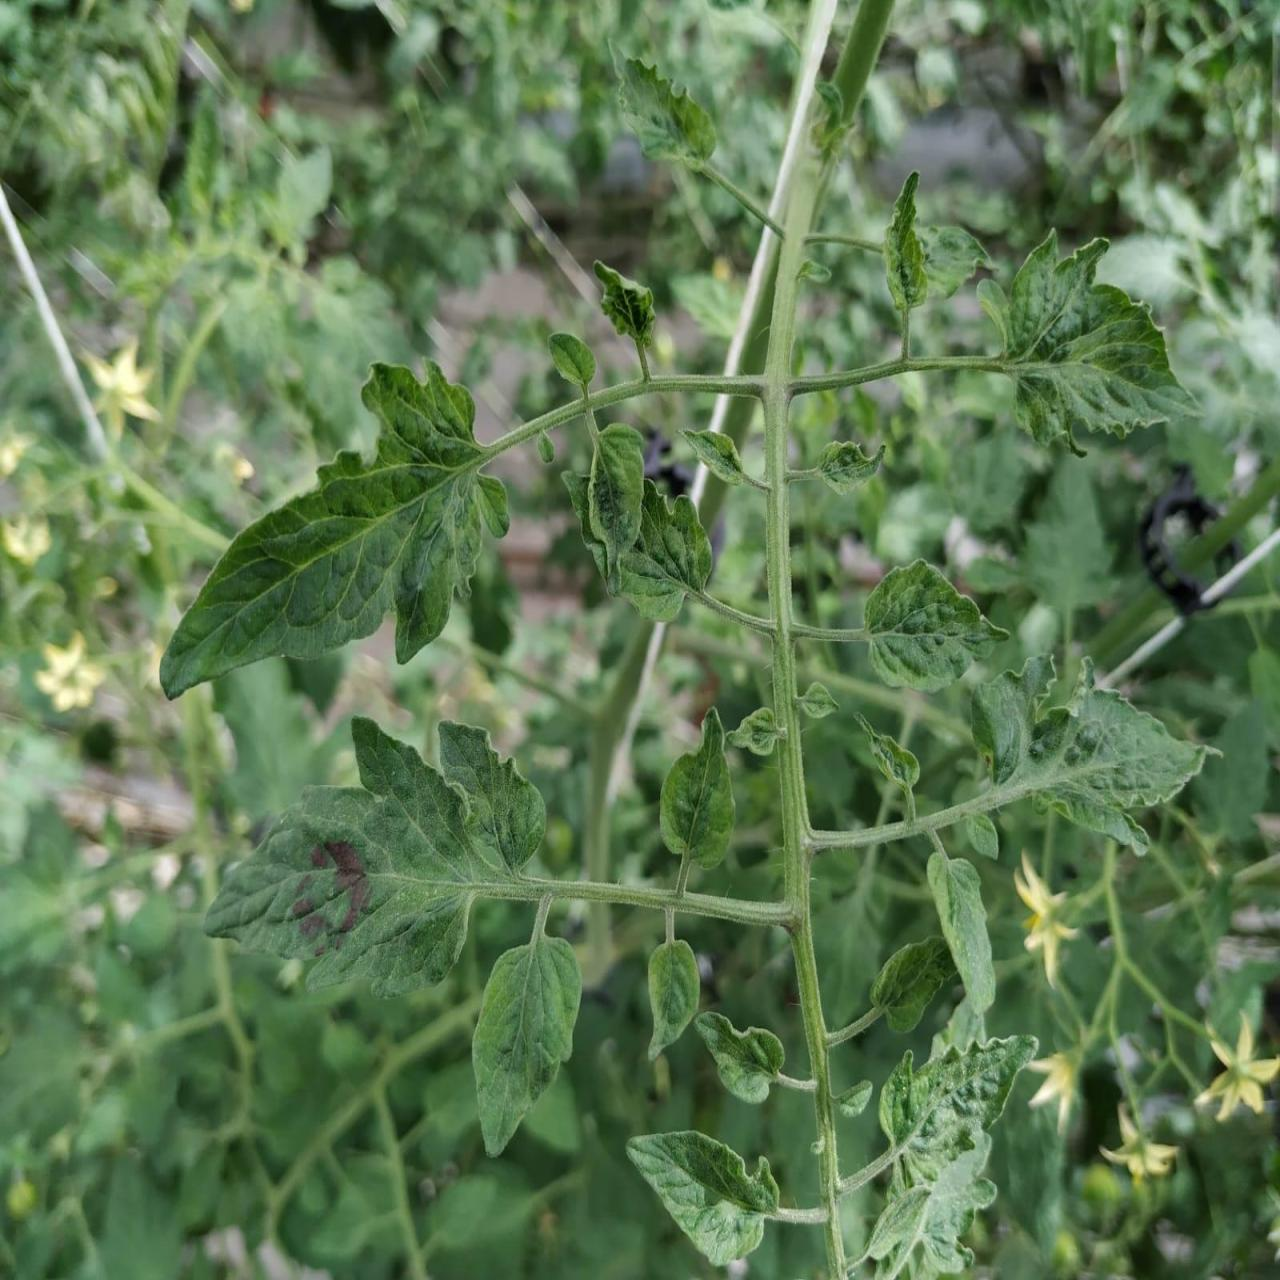T_L_H: (159, 360, 502, 695), (474, 898, 584, 1158), (661, 708, 736, 871)
T_L_R: (206, 719, 499, 998), (981, 231, 1199, 451), (1021, 661, 1211, 858), (629, 1131, 779, 1268), (866, 561, 1009, 692), (588, 424, 646, 594)
